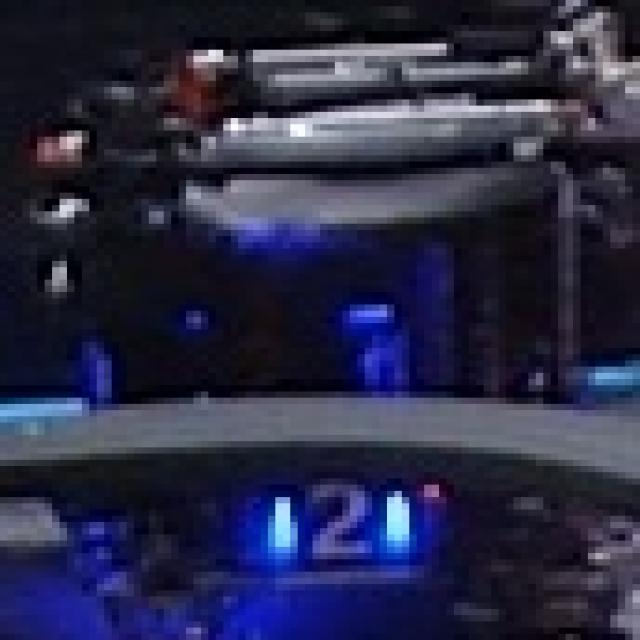B2: (253, 472, 424, 572)
